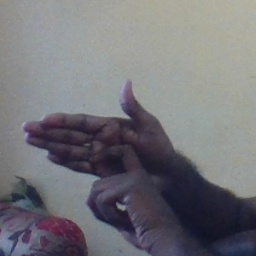R: (31, 72, 166, 221)
